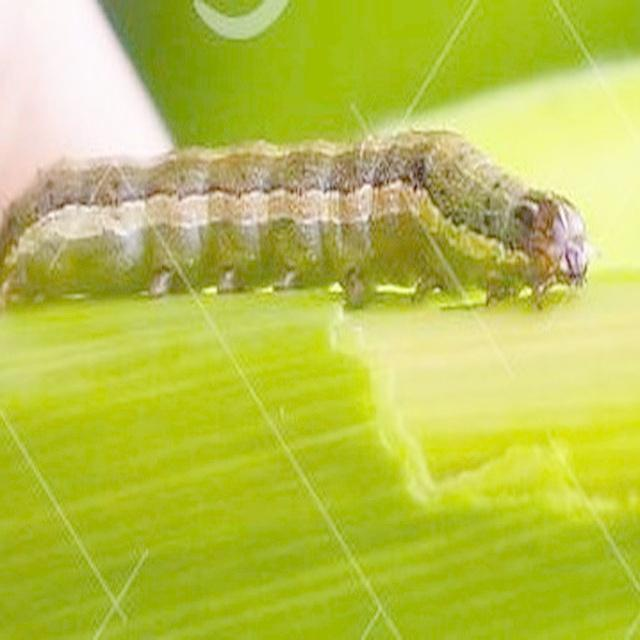gusano_cogollero: (9, 128, 586, 310)
